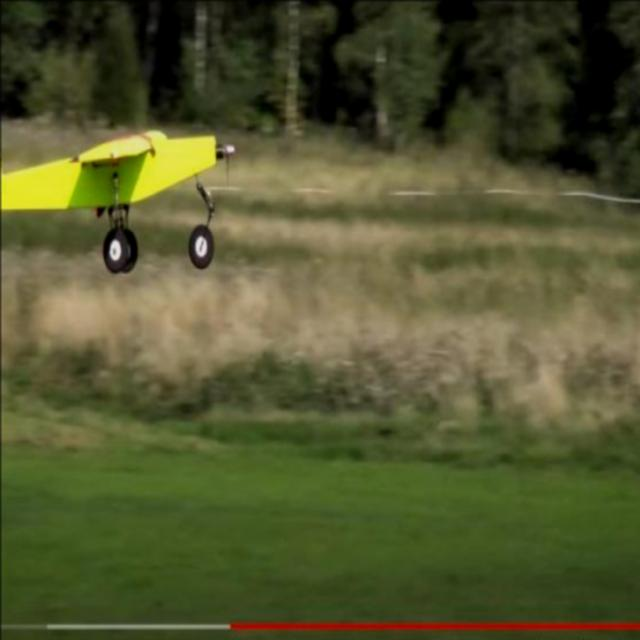plane: (0, 90, 237, 273)
